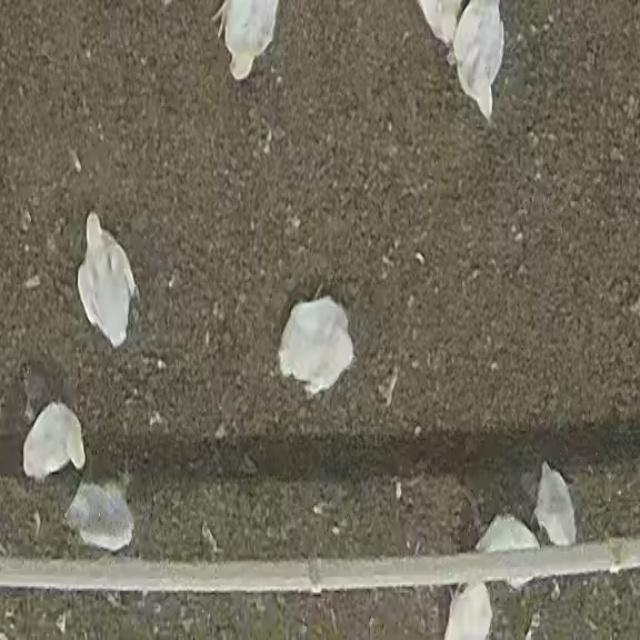chicken: (79, 214, 139, 348), (282, 299, 351, 395), (452, 1, 505, 121), (210, 1, 282, 80), (66, 476, 135, 552), (22, 401, 86, 482), (476, 514, 540, 585), (534, 461, 576, 546), (443, 582, 494, 637)
